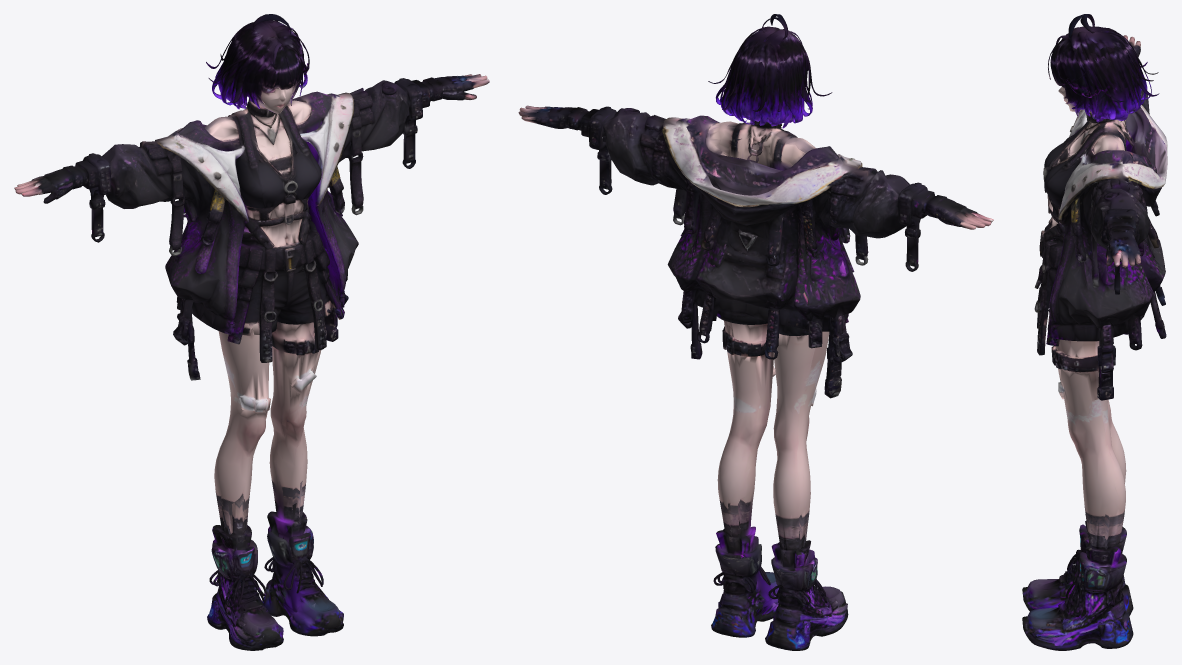
Rendered from Sister_Mixamo_Upload_B.fbx.
3 renders of one model, left to right at view 1: azimuth 30°, elevation 25°; view 2: azimuth 150°, elevation 25°; view 3: azimuth 270°, elevation 25°, orthographic.
Parts seen in each view (by area): view 1: Sister_Mixamo; view 2: Sister_Mixamo; view 3: Sister_Mixamo.
Boxes of the visible parts, left/top/right/bottom form: Sister_Mixamo: left=14, top=14, right=489, bottom=650; Sister_Mixamo: left=518, top=14, right=993, bottom=650; Sister_Mixamo: left=1022, top=14, right=1167, bottom=650.
Bounding box in the file's own units: 94.88 × 118 × 25.37.
1 material, 1 textured.
